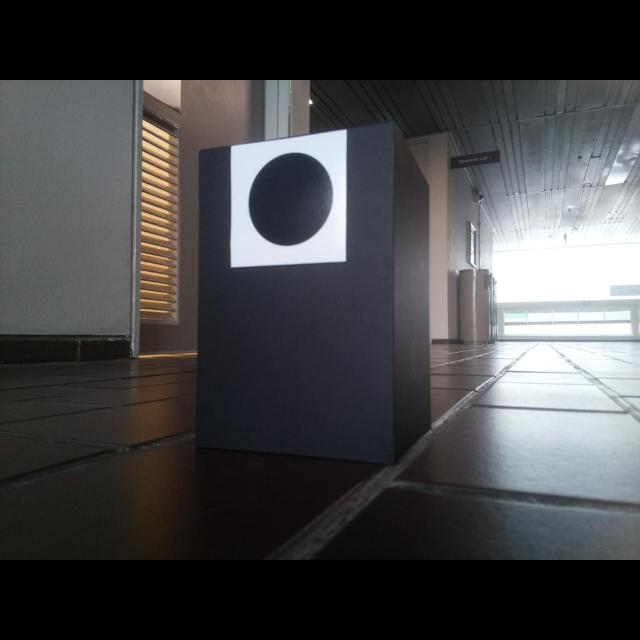CIRCLE: (247, 150, 335, 248)
